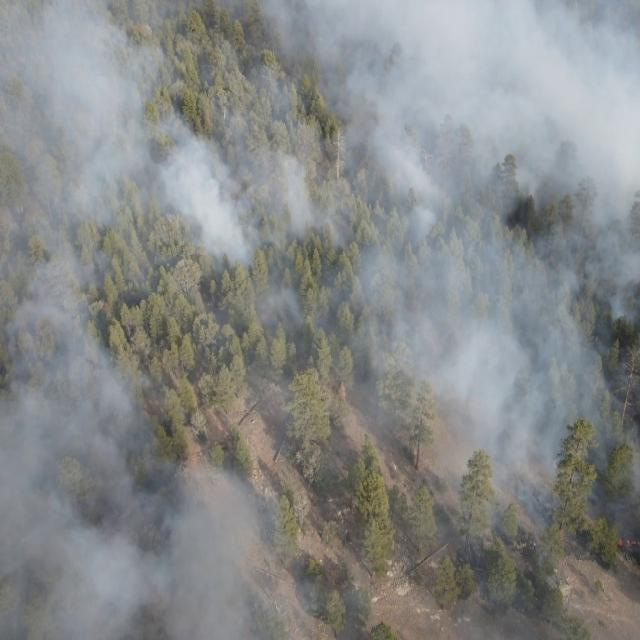fire: (614, 532, 640, 552), (101, 298, 113, 316)
smoke: (161, 0, 640, 281), (0, 0, 165, 640), (207, 277, 640, 463), (164, 461, 334, 640), (431, 462, 640, 556)
